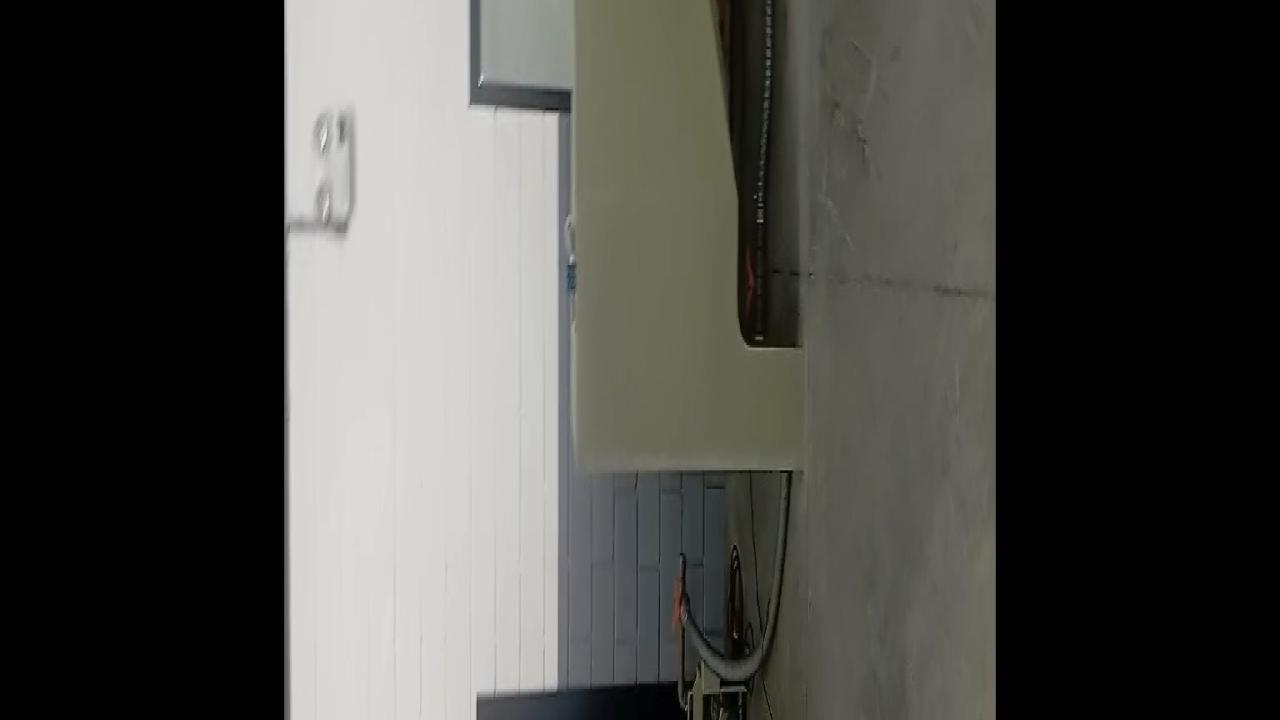Cube: (566, 259, 576, 295)
